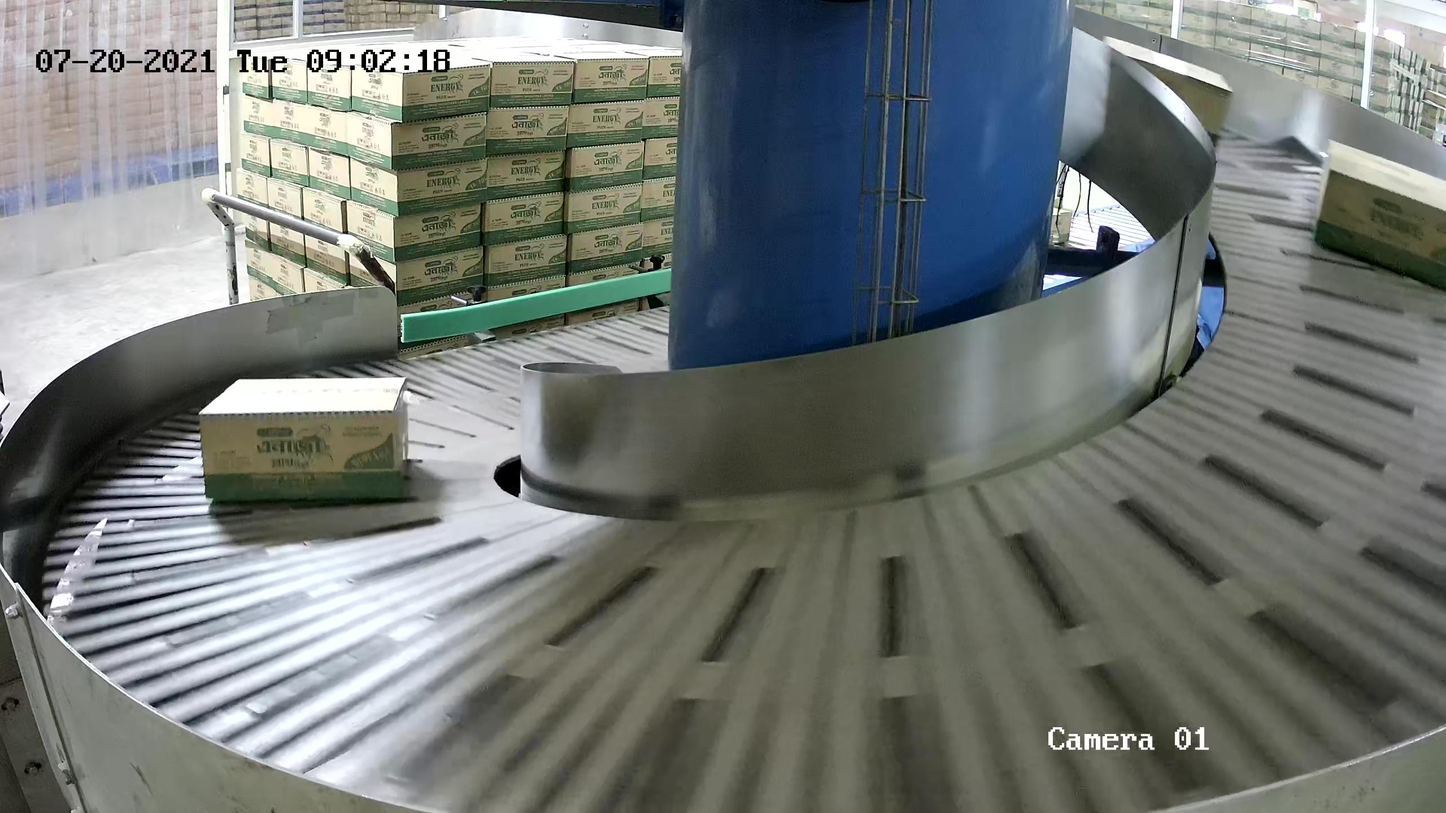Box: (196, 375, 411, 502), (1312, 137, 1446, 291)
